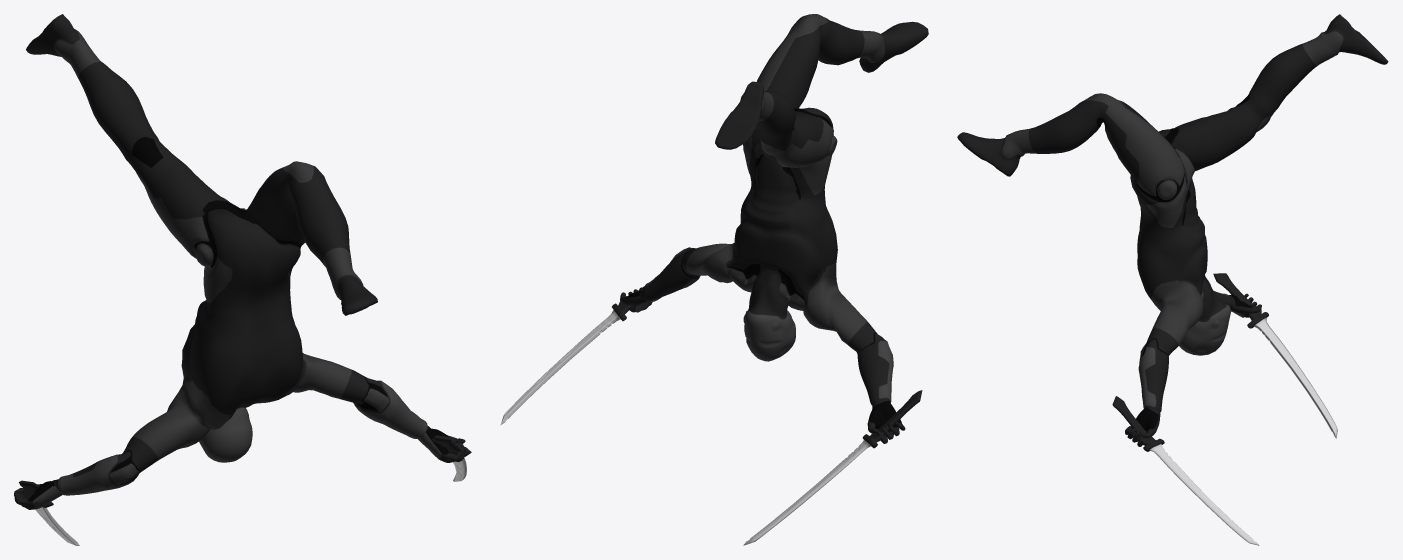
The picture shows the model from 3 angles, left to right: view 1: azimuth 30°, elevation 25°; view 2: azimuth 150°, elevation 25°; view 3: azimuth 270°, elevation 25°; orthographic projection. The views are drawn at different scales.
Visible parts, largest first — view 1: Cyborg_Ninja_Killer, Sword_l001, Sword_l; view 2: Cyborg_Ninja_Killer, Sword_l001, Sword_l; view 3: Cyborg_Ninja_Killer, Sword_l001, Sword_l.
Part boxes in pixels (left/top/right/bottom): Cyborg_Ninja_Killer: left=14, top=14, right=465, bottom=509; Sword_l001: left=19, top=480, right=79, bottom=545; Sword_l: left=432, top=435, right=471, bottom=481; Cyborg_Ninja_Killer: left=620, top=14, right=928, bottom=443; Sword_l001: left=743, top=390, right=922, bottom=545; Sword_l: left=500, top=286, right=644, bottom=425; Cyborg_Ninja_Killer: left=957, top=14, right=1388, bottom=446; Sword_l001: left=1213, top=273, right=1337, bottom=438; Sword_l: left=1112, top=396, right=1259, bottom=545.
Bounding box in the file's own units: 175 × 194 × 182.
Materials: 2 (2 with a texture image).
